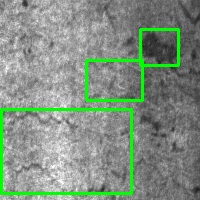crazing: (1, 109, 131, 193), (86, 60, 142, 100)
patches: (140, 29, 178, 65)
